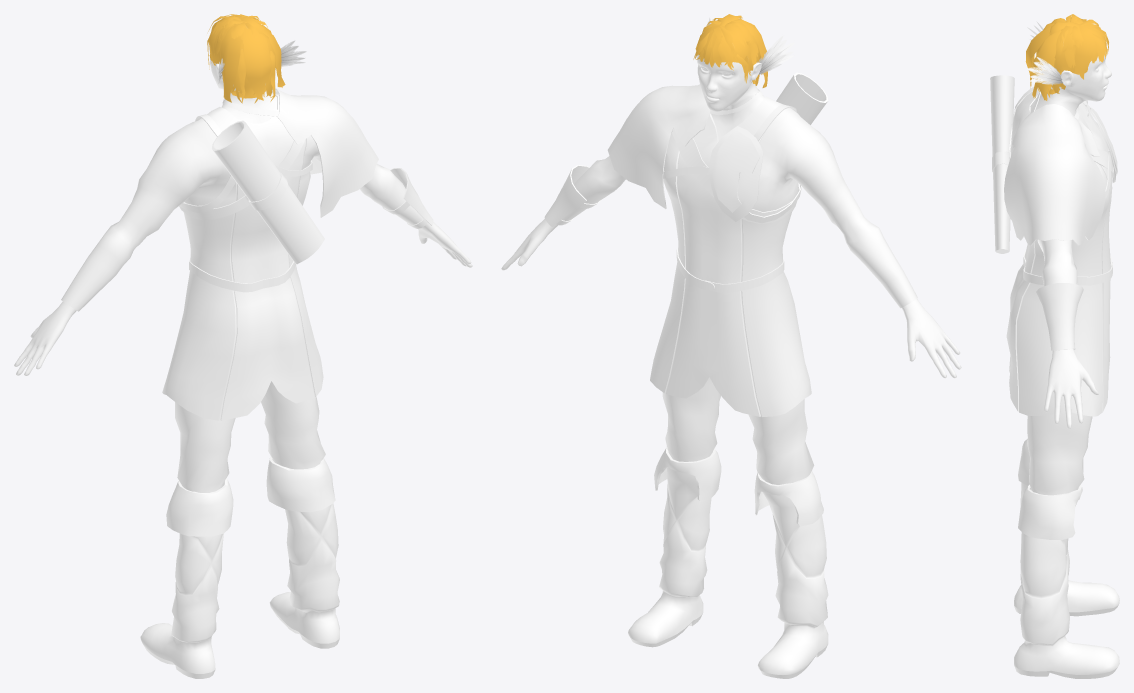
The model's file is Cadet Mixamo.glb.
3 views of the same model, side by side, from view 1: azimuth 30°, elevation 25°; view 2: azimuth 150°, elevation 25°; view 3: azimuth 270°, elevation 25° (orthographic).
Parts seen in each view (by area): view 1: Body; view 2: Body; view 3: Body.
Boxes of the visible parts, left/top/right/bottom form: Body: left=14, top=14, right=472, bottom=678; Body: left=501, top=14, right=961, bottom=678; Body: left=990, top=14, right=1119, bottom=678.
Bounding box in the file's own units: 1.44 × 1.92 × 0.3624.
8 materials, 2 textured.
